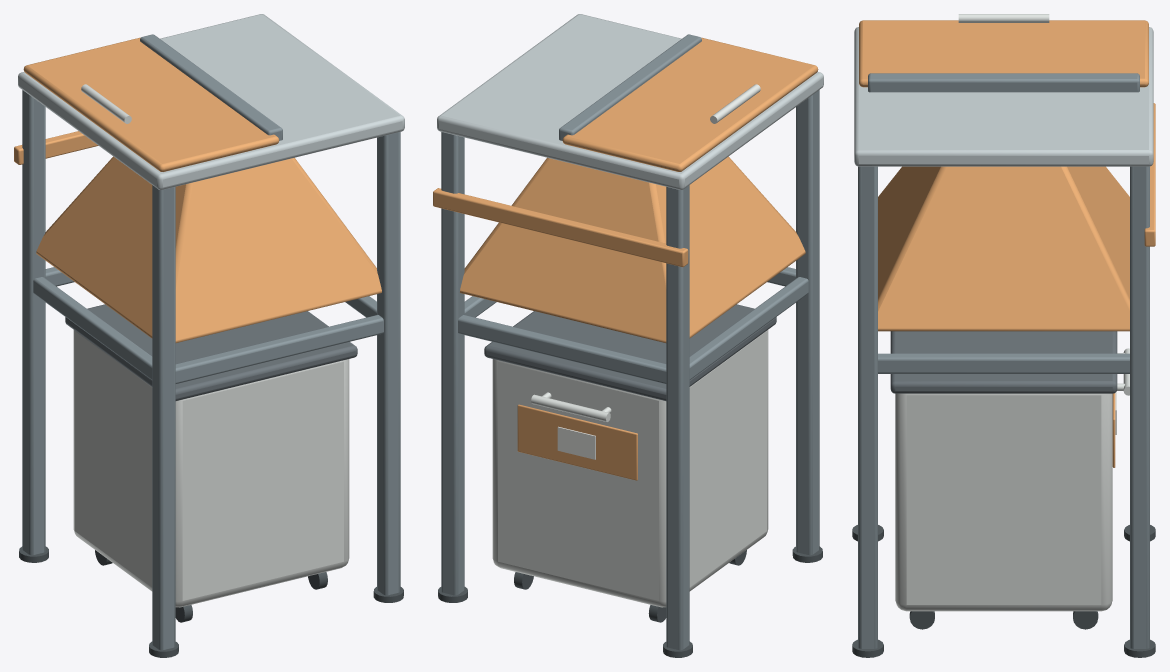
File: recycling_hopper_metals.glb
The picture shows the model from 3 angles, left to right: view 1: azimuth 30°, elevation 25°; view 2: azimuth 150°, elevation 25°; view 3: azimuth 270°, elevation 25°; orthographic projection. The views are drawn at different scales.
Parts seen in each view (by area): view 1: bin_warm_panel, frame_dark_alloy, funnel_orange, rim_alloy, lid_orange, bin_rim_graphite, lid_hinge_dark_alloy, frame_band_orange, bin_wheels_black_rubber; view 2: bin_warm_panel, frame_dark_alloy, funnel_orange, rim_alloy, lid_orange, bin_rim_graphite, frame_band_orange, bin_label_orange, lid_hinge_dark_alloy, bin_label_mark_white_painted, bin_handle_satin_steel, bin_wheels_black_rubber; view 3: bin_warm_panel, funnel_orange, frame_dark_alloy, rim_alloy, lid_orange, bin_rim_graphite, lid_hinge_dark_alloy, bin_wheels_black_rubber, lid_handle_satin_steel, frame_band_orange.
Boxes of the visible parts, box(x1,y1,x2,y2) form: bin_warm_panel: box(73, 330, 349, 607); frame_dark_alloy: box(19, 90, 403, 657); funnel_orange: box(36, 156, 381, 342); rim_alloy: box(18, 14, 404, 189); lid_orange: box(23, 37, 279, 171); bin_rim_graphite: box(65, 304, 357, 400); lid_hinge_dark_alloy: box(140, 34, 282, 140); frame_band_orange: box(14, 131, 98, 164); bin_wheels_black_rubber: box(95, 550, 327, 622); bin_warm_panel: box(492, 330, 768, 607); frame_dark_alloy: box(438, 90, 822, 657); funnel_orange: box(460, 156, 805, 342); rim_alloy: box(437, 14, 823, 189); lid_orange: box(562, 37, 818, 171); bin_rim_graphite: box(484, 304, 776, 400); frame_band_orange: box(433, 188, 688, 267); bin_label_orange: box(517, 404, 637, 480); lid_hinge_dark_alloy: box(559, 34, 701, 140); bin_label_mark_white_painted: box(557, 426, 595, 459); bin_handle_satin_steel: box(531, 392, 611, 421); bin_wheels_black_rubber: box(514, 550, 746, 622); bin_warm_panel: box(895, 393, 1112, 611); funnel_orange: box(878, 166, 1129, 331); frame_dark_alloy: box(852, 166, 1155, 657); rim_alloy: box(854, 27, 1153, 166); lid_orange: box(859, 20, 1148, 87); bin_rim_graphite: box(890, 331, 1117, 393); lid_hinge_dark_alloy: box(868, 73, 1139, 92); bin_wheels_black_rubber: box(909, 611, 1098, 629); lid_handle_satin_steel: box(958, 14, 1049, 22); frame_band_orange: box(1144, 103, 1155, 246).
Size of the model in its own units: 0.67 by 1.28 by 0.67.
